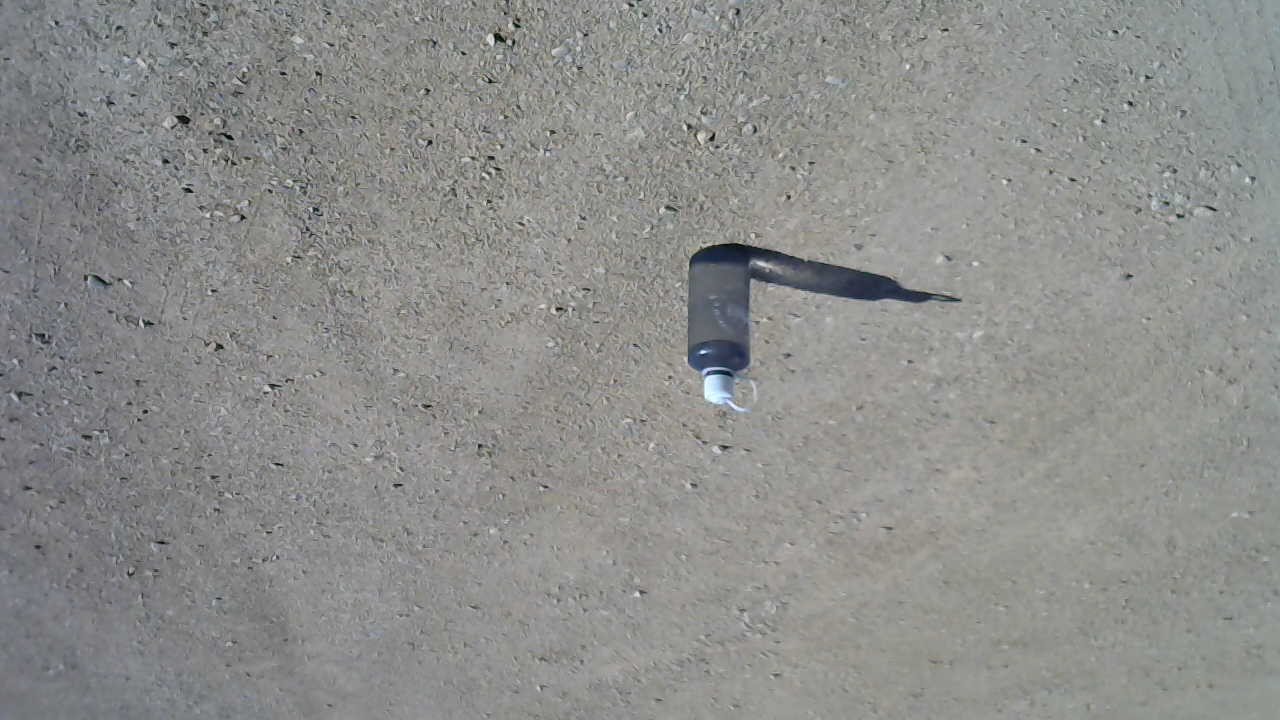bottle: (677, 241, 762, 417)
